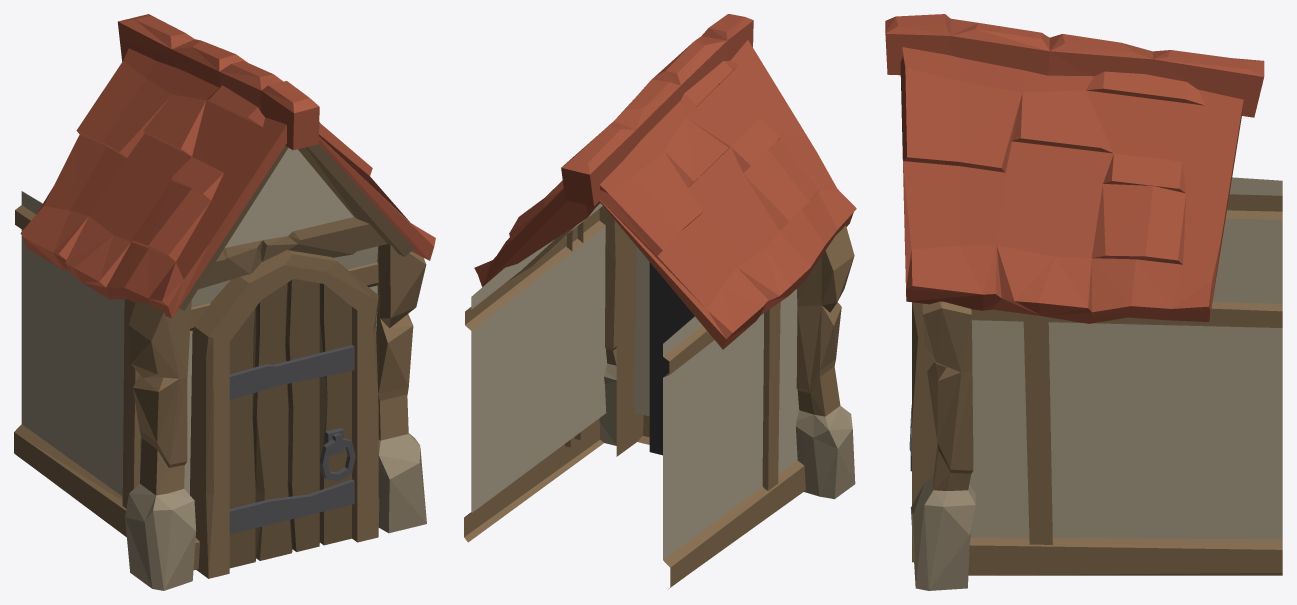
Rendered from SM_Bld_House_Door_04.gltf.
3 views of the same model, side by side, from view 1: azimuth 30°, elevation 25°; view 2: azimuth 150°, elevation 25°; view 3: azimuth 270°, elevation 25° (orthographic). The views are drawn at different scales.
Parts seen in each view (by area): view 1: SM_Bld_House_Door_04; view 2: SM_Bld_House_Door_04; view 3: SM_Bld_House_Door_04.
Part boxes in pixels (<box>): SM_Bld_House_Door_04: <box>14,14,435,590</box>; SM_Bld_House_Door_04: <box>464,14,856,588</box>; SM_Bld_House_Door_04: <box>885,14,1282,590</box>.
Size of the model in its own units: 2.14 by 3.29 by 2.38.
1 material, 1 textured.
